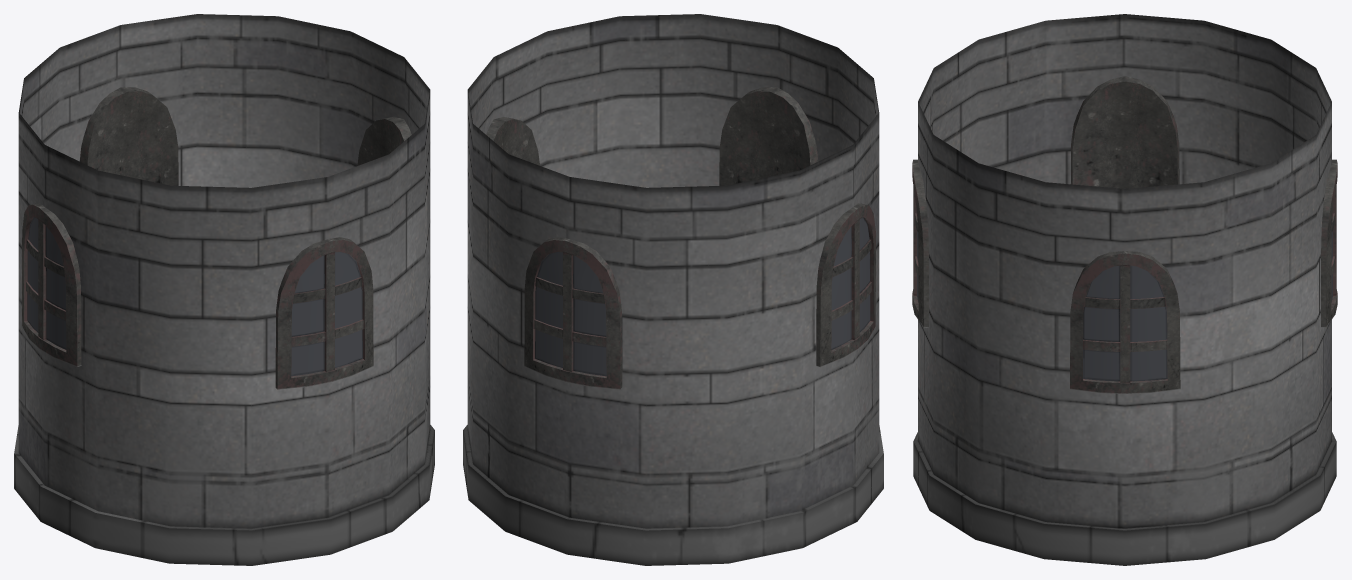
File: sb_obj_outdoor002_DemonsCastle01_CircleWall02.fbx
3 views of the same model, side by side, from view 1: azimuth 30°, elevation 25°; view 2: azimuth 150°, elevation 25°; view 3: azimuth 270°, elevation 25° (orthographic).
Parts seen in each view (by area): view 1: sb_obj_outdoor002_DemonsCastle01_CircleWall02; view 2: sb_obj_outdoor002_DemonsCastle01_CircleWall02; view 3: sb_obj_outdoor002_DemonsCastle01_CircleWall02.
Boxes of the visible parts, x1,y1,x2,y2 form: sb_obj_outdoor002_DemonsCastle01_CircleWall02: (14, 14, 434, 565); sb_obj_outdoor002_DemonsCastle01_CircleWall02: (463, 14, 883, 565); sb_obj_outdoor002_DemonsCastle01_CircleWall02: (912, 14, 1337, 565).
Bounding box in the file's own units: 3.08 × 3 × 3.08.
